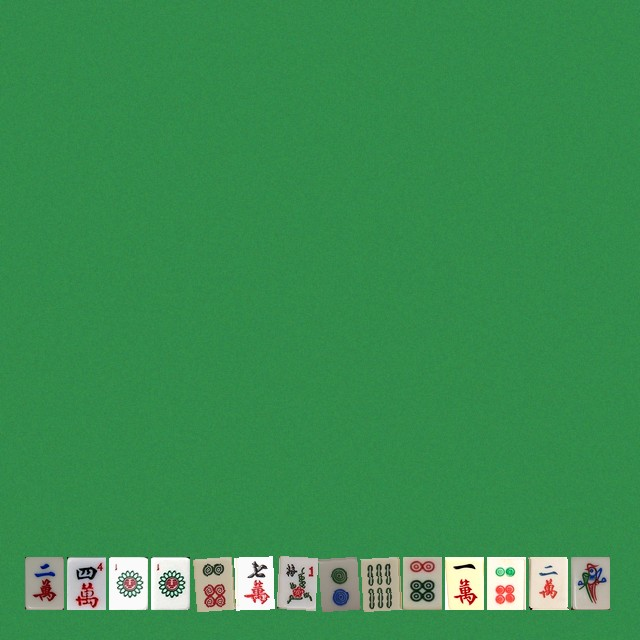tile: (24, 556, 63, 609), (66, 556, 105, 609), (108, 556, 147, 609), (150, 556, 189, 609), (192, 556, 231, 609), (234, 556, 273, 609), (276, 556, 315, 609), (318, 556, 357, 609), (360, 556, 399, 609), (402, 556, 441, 609), (444, 556, 483, 609), (486, 556, 525, 609), (528, 556, 567, 609), (570, 556, 609, 609)
